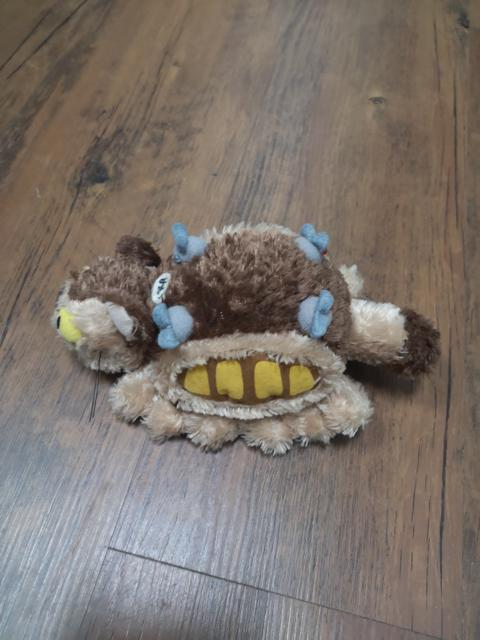nekobus: (48, 215, 447, 462)
